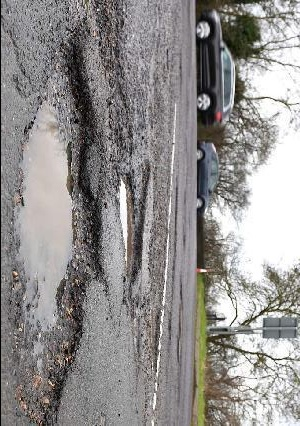pothole: (9, 40, 105, 423), (115, 162, 152, 286), (90, 0, 126, 70), (176, 281, 186, 363), (151, 311, 163, 372)
